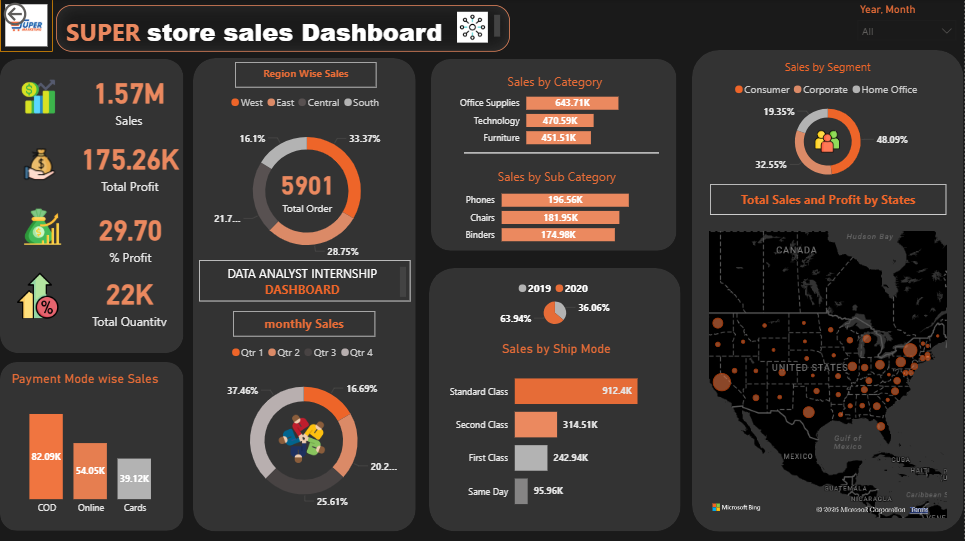

Layout of this report page (visuals, bound fields, positions):
{"tool":"powerbi","page":{"name":"Page 1","canvas":[1280,720],"ordinal":0},"visuals":[{"type":"group","id":"g1","title":"Group 1","box":[0,0,677.2,70.2],"z":0,"group":"g2"},{"type":"image","box":[0,0,70.2,70.2],"z":0,"group":"g1"},{"type":"shape","box":[919.4,67.4,360.6,640],"z":0},{"type":"textbox","box":[74.3,8.3,602.8,61.9],"z":1000,"group":"g1"},{"type":"image","box":[598.7,12.4,57.8,50.9],"z":1000,"group":"g2"},{"type":"shape","box":[572.6,79.8,326.2,254.6],"z":1000},{"type":"shape","box":[256,78.5,295.9,629],"z":2000},{"type":"shape","box":[0,79.8,243.6,390.9],"z":3000},{"type":"shape","box":[0,482.6,243.7,224.4],"z":4000},{"type":"shape","box":[569.8,357.8,334.5,349.6],"z":5000},{"type":"group","id":"g2","title":"Group 2","box":[0,0,677.2,70.2],"z":6000},{"type":"actionButton","box":[0,0,100,40],"z":7000},{"type":"slicer","fields":{"Values":["SuperStore_Sales_Dataset.Order Date.Variation.Date Hierarchy.Year","SuperStore_Sales_Dataset.Order Date.Variation.Date Hierarchy.Month"]},"box":[1128.6,0,151.4,70.2],"z":8000},{"type":"clusteredBarChart","title":"Sales by Ship Mode","fields":{"Y":["Sum(SuperStore_Sales_Dataset.Sales)"],"Category":["SuperStore_Sales_Dataset.Ship Mode"]},"box":[586.3,454.2,306.9,240.9],"z":9000},{"type":"donutChart","fields":{"Y":["Sum(SuperStore_Sales_Dataset.Sales)"],"Category":["SuperStore_Sales_Dataset.Order Date.Variation.Date Hierarchy.Quarter"]},"box":[276.6,448.7,254.6,246.4],"z":10000},{"type":"pieChart","fields":{"Y":["Sum(SuperStore_Sales_Dataset.Sales)"],"Category":["SuperStore_Sales_Dataset.Order Date.Variation.Date Hierarchy.Year"]},"box":[627.6,363.4,220.2,77.1],"z":11000},{"type":"barChart","fields":{"Category":["SuperStore_Sales_Dataset.Category"],"Y":["Sum(SuperStore_Sales_Dataset.Sales)"]},"box":[598.7,107.4,275.3,100.5],"z":12000},{"type":"textbox","box":[667.5,93.6,140.4,34.4],"z":13000},{"type":"shape","box":[616.5,189.4,259.4,29],"z":14000},{"type":"textbox","box":[649.6,218.8,180.3,34.4],"z":15000},{"type":"barChart","fields":{"Category":["SuperStore_Sales_Dataset.Sub-Category"],"Y":["Sum(SuperStore_Sales_Dataset.Sales)"]},"box":[608.3,236.7,275.3,100.5],"z":16000},{"type":"textbox","box":[309.7,414.3,188.6,34.4],"z":17000},{"type":"clusteredColumnChart","title":"Payment Mode wise Sales","fields":{"Y":["Sum(SuperStore_Sales_Dataset.Profit)"],"Category":["SuperStore_Sales_Dataset.Payment Mode"]},"box":[10.9,494.6,220.8,200.3],"z":18000},{"type":"card","fields":{"Values":["Sum(SuperStore_Sales_Dataset.Sales)"]},"box":[100.1,90.5,143.6,85.7],"z":19000},{"type":"image","box":[20.5,95.3,61.5,67.6],"z":20000},{"type":"card","fields":{"Values":["Sum(SuperStore_Sales_Dataset.Profit)"]},"box":[100.5,176.2,143.1,88.1],"z":21000},{"type":"card","fields":{"Values":["Sum(SuperStore_Sales_Dataset.Quantity)"]},"box":[100.5,359.2,141.8,81.2],"z":22000},{"type":"image","box":[26.5,193,51.9,53.1],"z":23000},{"type":"image","box":[25.3,271.4,61.5,61.5],"z":24000},{"type":"image","box":[14.5,358.3,71.2,71.2],"z":25000},{"type":"card","fields":{"Values":["Avg(SuperStore_Sales_Dataset.Profit)"]},"box":[101.8,273.9,141.8,82.6],"z":26000},{"type":"textbox","box":[312.5,83.2,188.2,33.8],"z":27000},{"type":"donutChart","fields":{"Category":["SuperStore_Sales_Dataset.Region"],"Y":["Sum(SuperStore_Sales_Dataset.Sales)"]},"box":[280.8,117,254.6,247.7],"z":28000},{"type":"card","fields":{"Values":["CountNonNull(SuperStore_Sales_Dataset.Order ID)"]},"box":[360.6,213.3,96.3,78.5],"z":29000},{"type":"textbox","box":[942.8,246.4,313.8,41.3],"z":31000},{"type":"map","fields":{"Category":["SuperStore_Sales_Dataset.State"],"Size":["Sum(SuperStore_Sales_Dataset.Sales)"]},"box":[935.9,302.8,326.2,392.3],"z":32000},{"type":"donutChart","title":"Sales by Segment","fields":{"Category":["SuperStore_Sales_Dataset.Segment"],"Y":["Sum(SuperStore_Sales_Dataset.Sales)"]},"box":[935.9,79.8,326.2,170.7],"z":32001},{"type":"image","box":[1077.7,165.2,42.7,49.5],"z":32002},{"type":"image","box":[360.6,547.8,81.2,74.3],"z":32003},{"type":"textbox","box":[264.3,346.8,280.8,55.1],"z":32004}]}

Visuals, with their boxes in screenshot pixels (x1, y1, x2, y2), scaled from the page's 1280x720 canvas onto the 965x541 screenshot:
"Group 1" group: 0:0:511:53
image: 0:0:53:53
shape: 693:51:964:532
textbox: 56:6:510:53
image: 451:9:495:48
shape: 432:60:678:251
shape: 193:59:416:532
shape: 0:60:184:354
shape: 0:363:184:531
shape: 430:269:682:532
"Group 2" group: 0:0:511:53
actionButton: 0:0:75:30
slicer - SuperStore_Sales_Dataset.Order Date.Variation.Date Hierarchy.Year x SuperStore_Sales_Dataset.Order Date.Variation.Date Hierarchy.Month: 851:0:964:53
"Sales by Ship Mode" clusteredBarChart: 442:341:673:522
donutChart - Sum(SuperStore_Sales_Dataset.Sales) x SuperStore_Sales_Dataset.Order Date.Variation.Date Hierarchy.Quarter: 209:337:400:522
pieChart - Sum(SuperStore_Sales_Dataset.Sales) x SuperStore_Sales_Dataset.Order Date.Variation.Date Hierarchy.Year: 473:273:639:331
barChart - SuperStore_Sales_Dataset.Category x Sum(SuperStore_Sales_Dataset.Sales): 451:81:659:156
textbox: 503:70:609:96
shape: 465:142:660:164
textbox: 490:164:626:190
barChart - SuperStore_Sales_Dataset.Sub-Category x Sum(SuperStore_Sales_Dataset.Sales): 459:178:666:253
textbox: 233:311:376:337
"Payment Mode wise Sales" clusteredColumnChart: 8:372:175:522
card - Sum(SuperStore_Sales_Dataset.Sales): 75:68:184:132
image: 15:72:62:122
card - Sum(SuperStore_Sales_Dataset.Profit): 76:132:184:199
card - Sum(SuperStore_Sales_Dataset.Quantity): 76:270:183:331
image: 20:145:59:185
image: 19:204:65:250
image: 11:269:65:323
card - Avg(SuperStore_Sales_Dataset.Profit): 77:206:184:268
textbox: 236:63:377:88
donutChart - SuperStore_Sales_Dataset.Region x Sum(SuperStore_Sales_Dataset.Sales): 212:88:404:274
card - CountNonNull(SuperStore_Sales_Dataset.Order ID): 272:160:344:219
textbox: 711:185:947:216
map - SuperStore_Sales_Dataset.State x Sum(SuperStore_Sales_Dataset.Sales): 706:228:952:522
"Sales by Segment" donutChart: 706:60:952:188
image: 812:124:845:161
image: 272:412:333:467
textbox: 199:261:411:302
